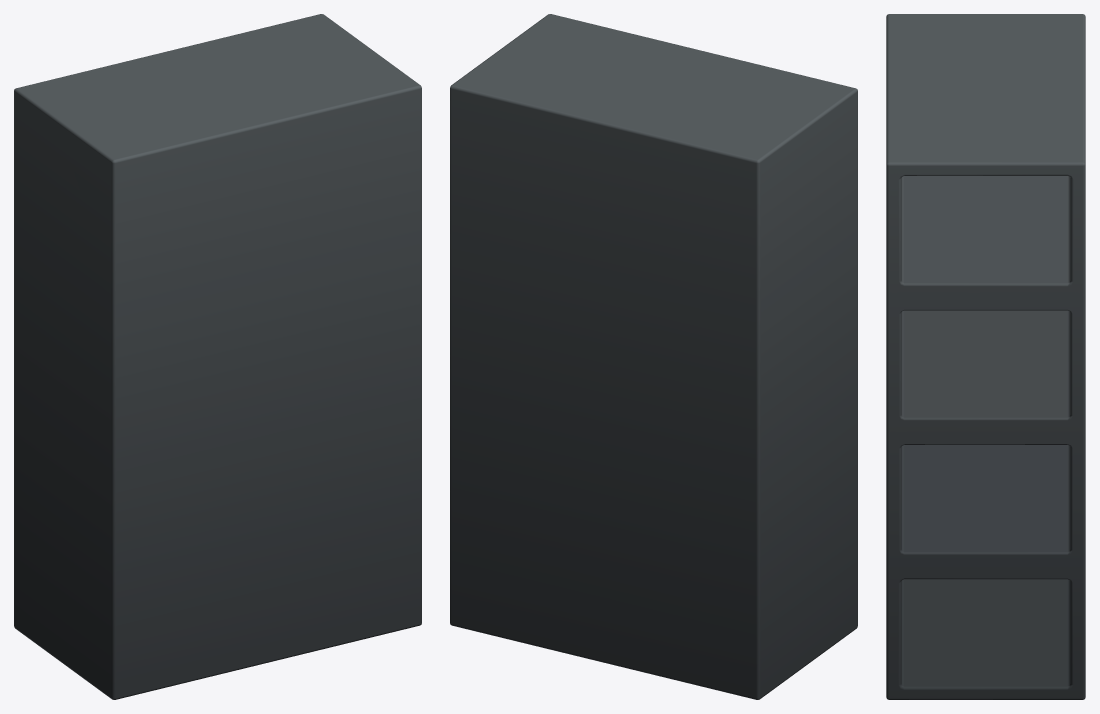
File: Doc_Shelf.fbx
3 views of the same model, side by side, from view 1: azimuth 30°, elevation 25°; view 2: azimuth 150°, elevation 25°; view 3: azimuth 270°, elevation 25° (orthographic).
Parts seen in each view (by area): view 1: X_Doc_Shelf.003; view 2: X_Doc_Shelf.003; view 3: X_Doc_Shelf.003.
Part boxes in pixels (x1,y1,x2,y2): X_Doc_Shelf.003: (14,14,421,699); X_Doc_Shelf.003: (450,14,857,699); X_Doc_Shelf.003: (886,14,1085,699).
Bounding box in the file's own units: 200 × 333 × 112.
